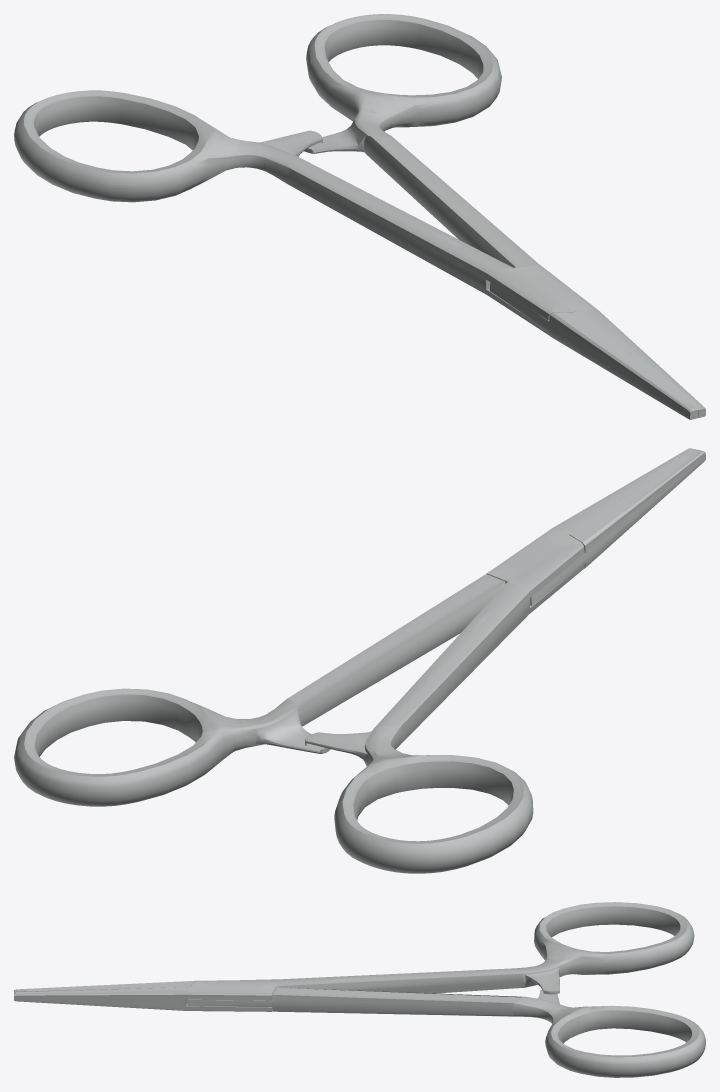
Rendered from Banh.fbx.
3 views of the same model, one above another, from view 1: azimuth 30°, elevation 25°; view 2: azimuth 150°, elevation 25°; view 3: azimuth 270°, elevation 25° (orthographic). The views are drawn at different scales.
Parts seen in each view (by area): view 1: Banh_L, Banh_R; view 2: Banh_R, Banh_L; view 3: Banh_L, Banh_R.
Part boxes in pixels (x1,y1,x2,y2): Banh_L: (14,90,705,417); Banh_R: (304,14,697,419); Banh_R: (14,449,705,806); Banh_L: (305,448,695,873); Banh_L: (14,902,694,1011); Banh_R: (14,980,705,1077).
Size of the model in its own units: 8.92 by 0.629 by 16.37.
Materials: 1 (1 with a texture image).
